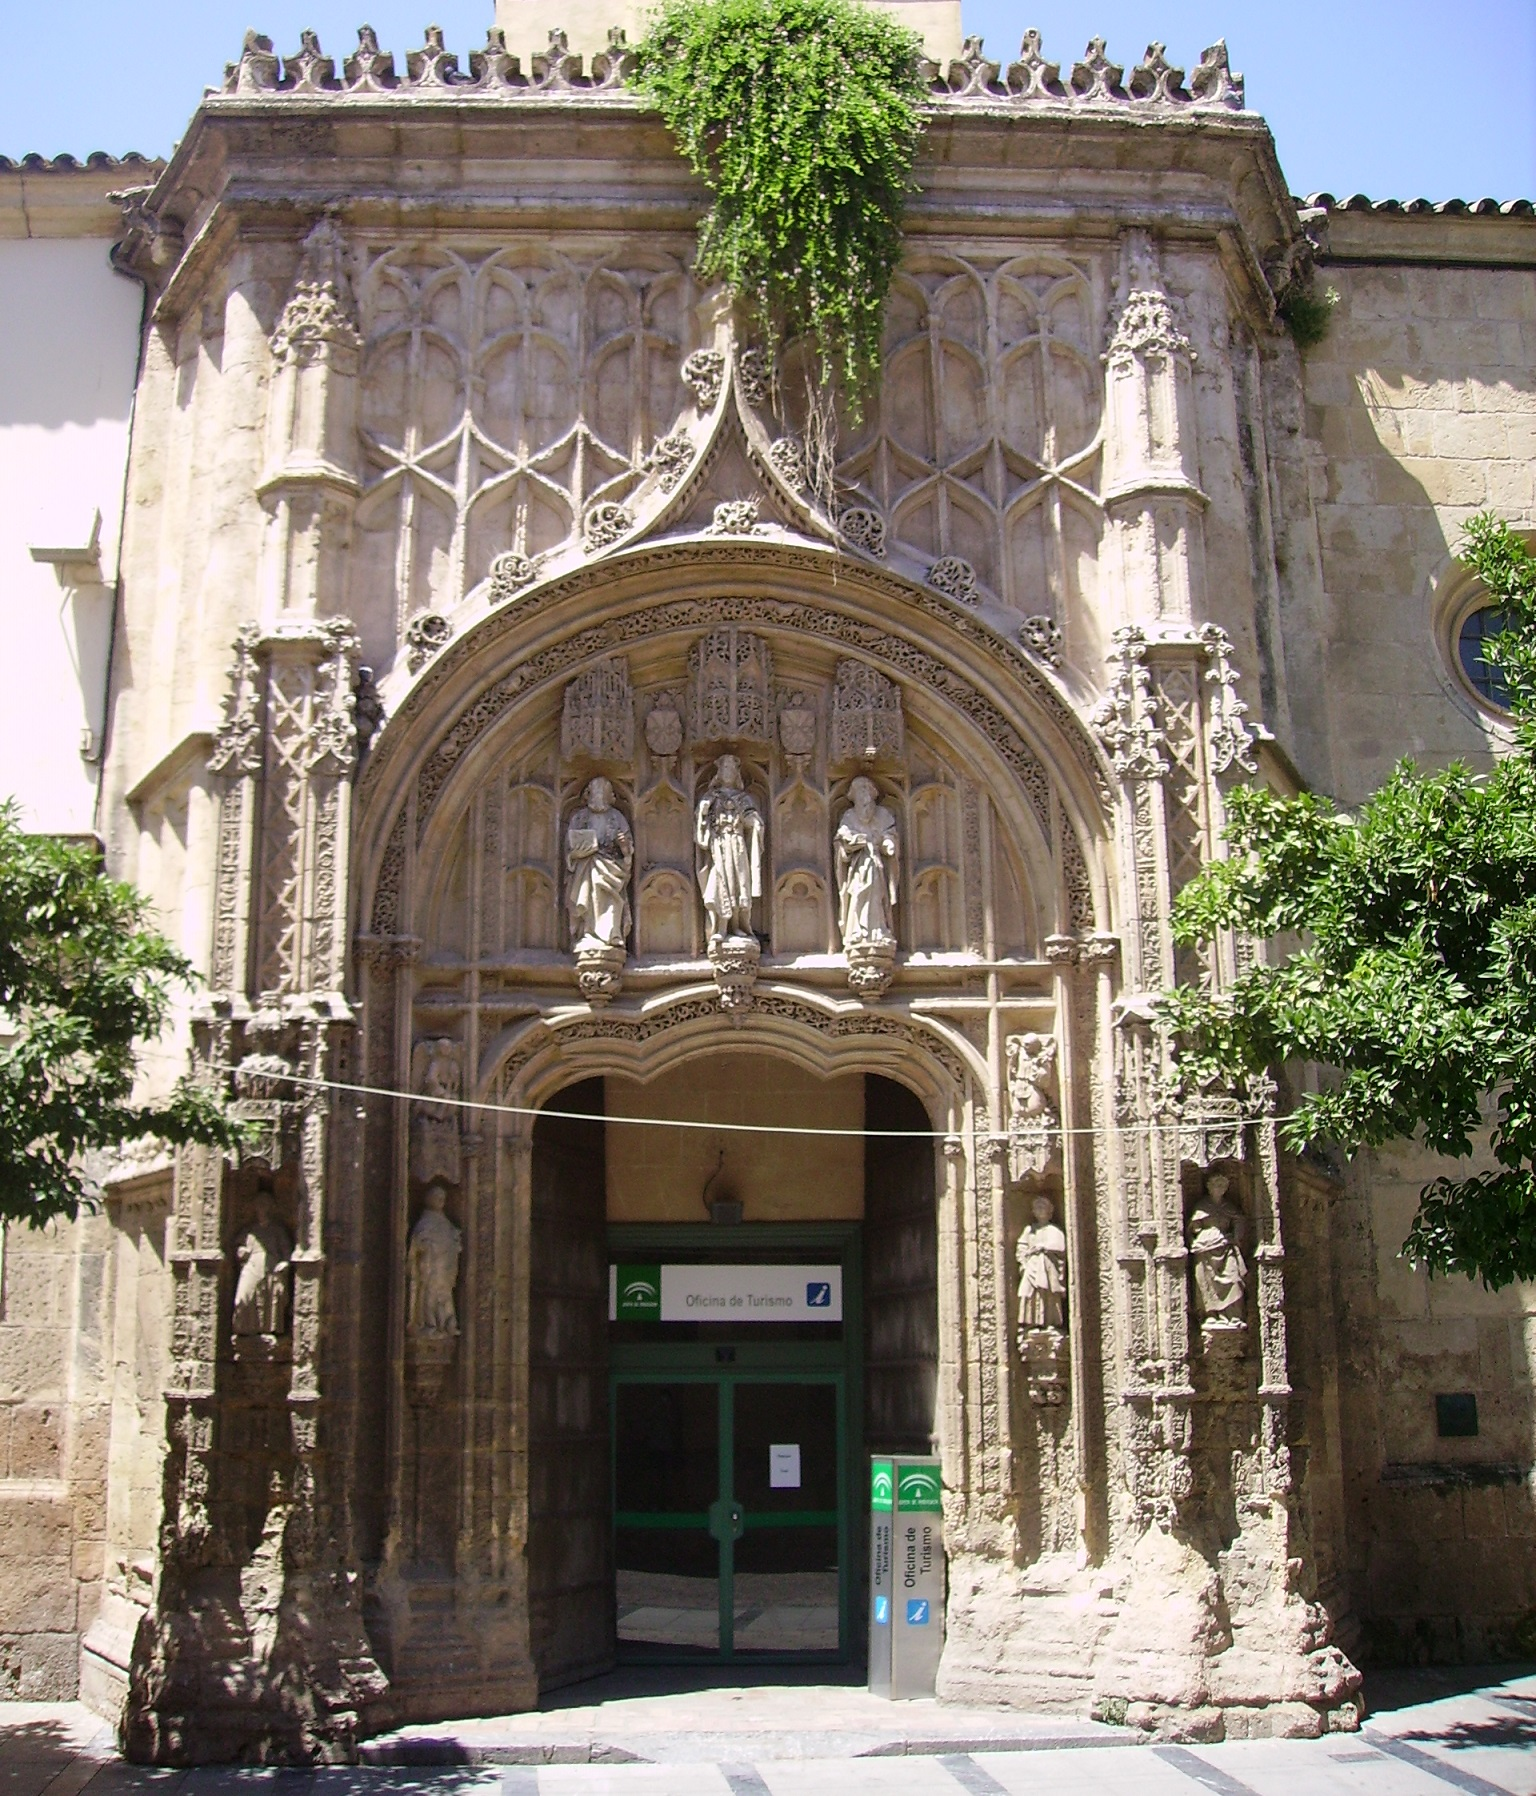arco-conopial: (434, 355, 1026, 644)
arco-trilobulado: (489, 979, 965, 1155)
